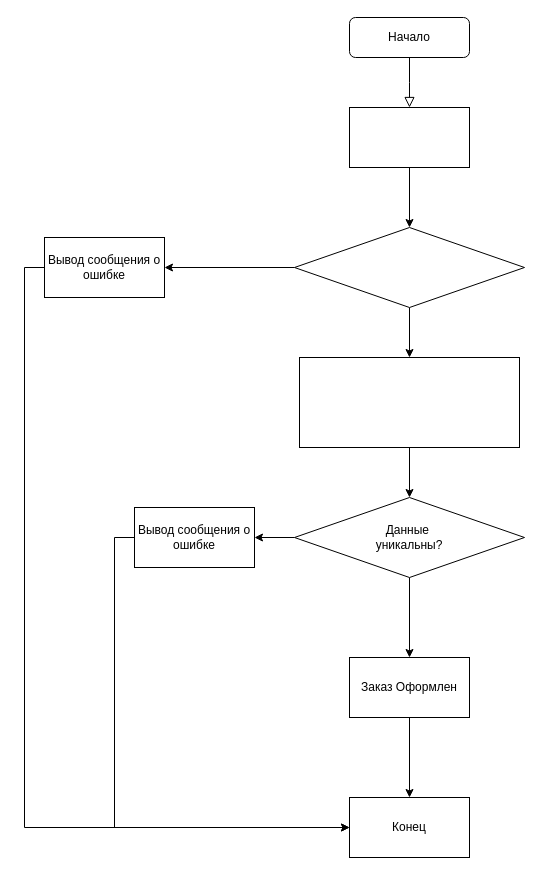
The diagram is 542 pixels wide and 875 high, and some of its shapes have lost their labels. Each missing label, with the centre of its shape:
Данные Корректны?: [409,267]
Пользователь нажал кнопку "Заказать": [409,137]
Проверка уникальности полей Email и Телефон: [409,402]
